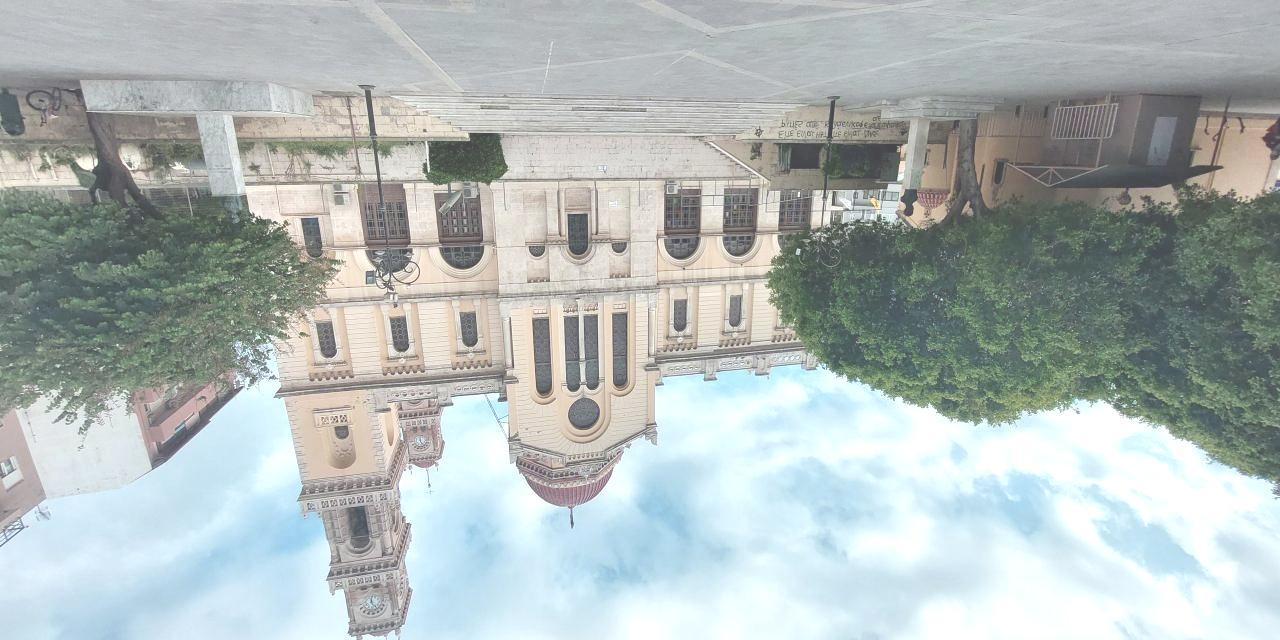Agios Minas: (230, 173, 841, 640)
